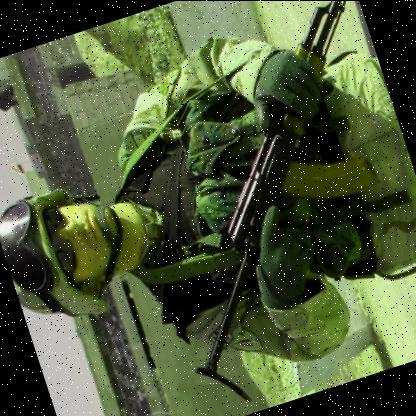rifle: (80, 0, 416, 404)
